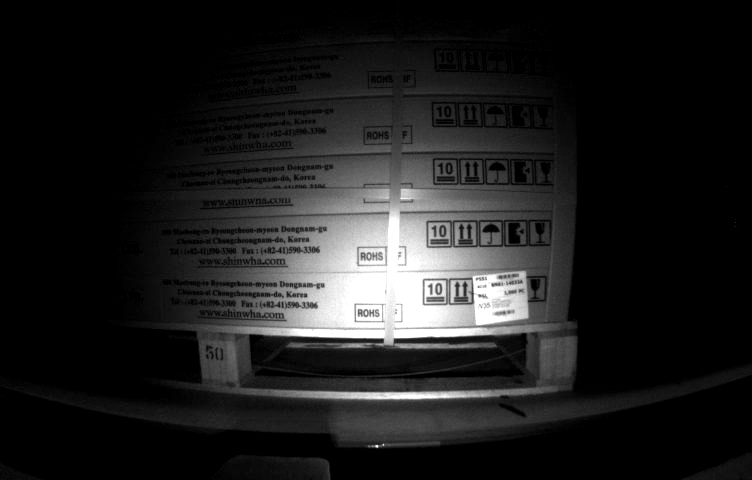True Barcode: (473, 269, 531, 327)
